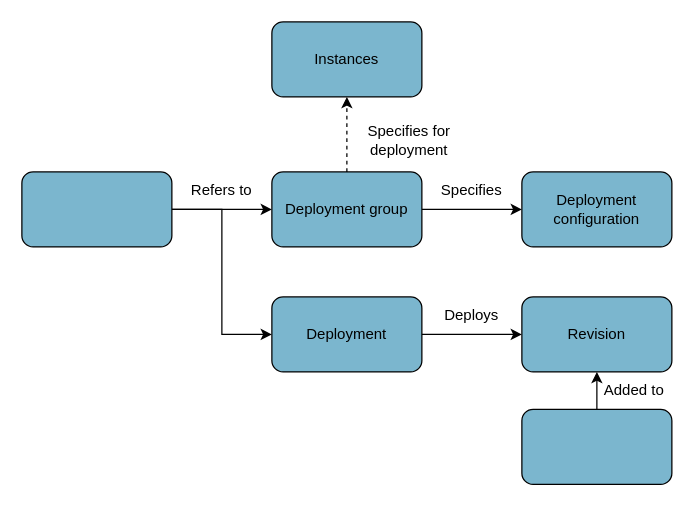
The diagram is 694 pixels wide and 506 high, and some of its shapes have lost their labels. The shapes that lost their labels are listed below. From the top down, each one's centre as x and y in pixels, then its label:
point (96, 209): Application
point (596, 446): Application specification (appspec)
